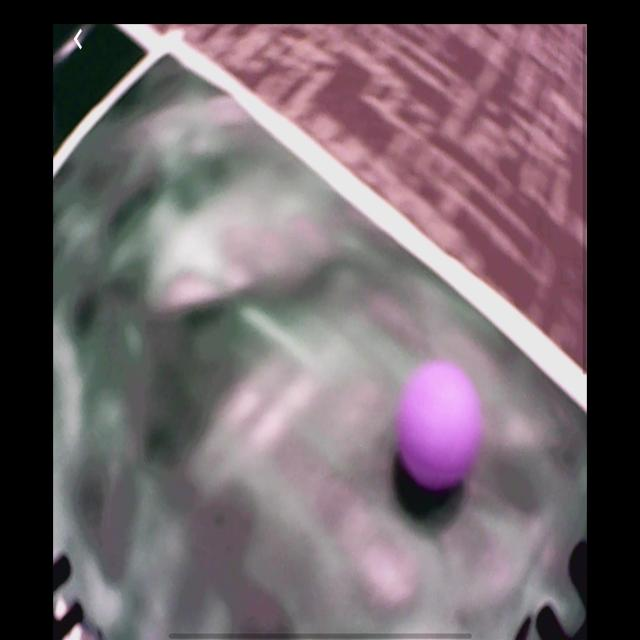ball: (396, 362, 483, 494)
